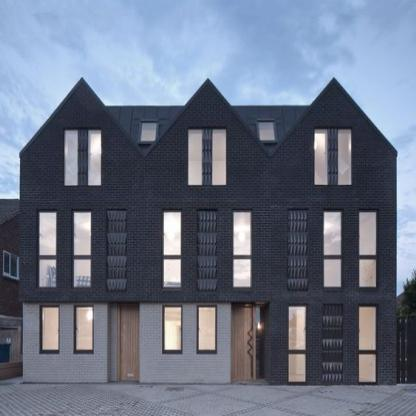Building Outline: (18, 73, 398, 386)
Cornice: (19, 293, 396, 301), (20, 199, 396, 207)
Door: (230, 303, 255, 381), (118, 303, 140, 381)
Facade: (18, 73, 399, 386)
Pillar: (324, 303, 343, 385), (107, 210, 126, 291), (198, 210, 217, 291), (289, 210, 308, 291), (78, 130, 88, 185), (328, 130, 338, 185), (203, 130, 212, 185)
Roof: (18, 75, 398, 160)
Window: (73, 211, 91, 287), (163, 211, 181, 287), (359, 211, 377, 287), (324, 211, 341, 287), (234, 211, 251, 287), (39, 211, 56, 287), (359, 306, 375, 382), (289, 306, 305, 382), (338, 130, 352, 185), (188, 130, 202, 185), (64, 130, 78, 185), (75, 307, 92, 351), (314, 130, 327, 185), (89, 130, 102, 185), (213, 130, 226, 185), (42, 307, 58, 351), (164, 307, 180, 351), (199, 307, 215, 351), (256, 306, 264, 378), (259, 122, 275, 141), (140, 123, 156, 141)
